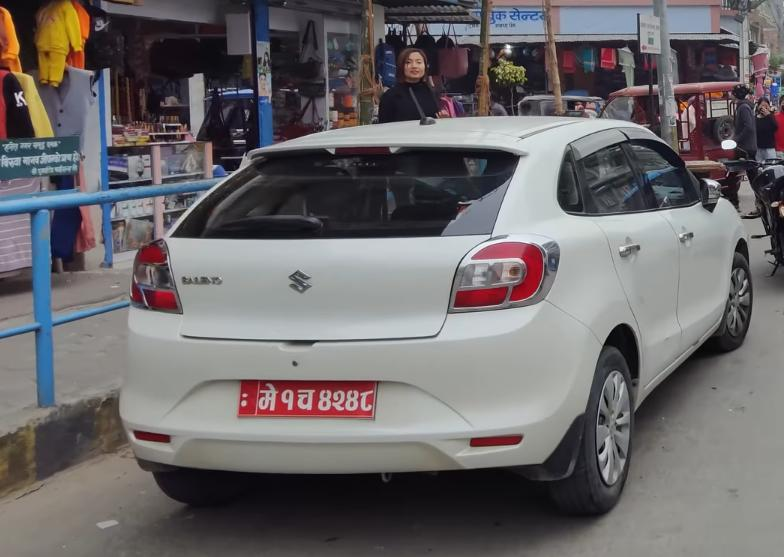bike: (720, 132, 784, 282)
car: (134, 113, 761, 509)
